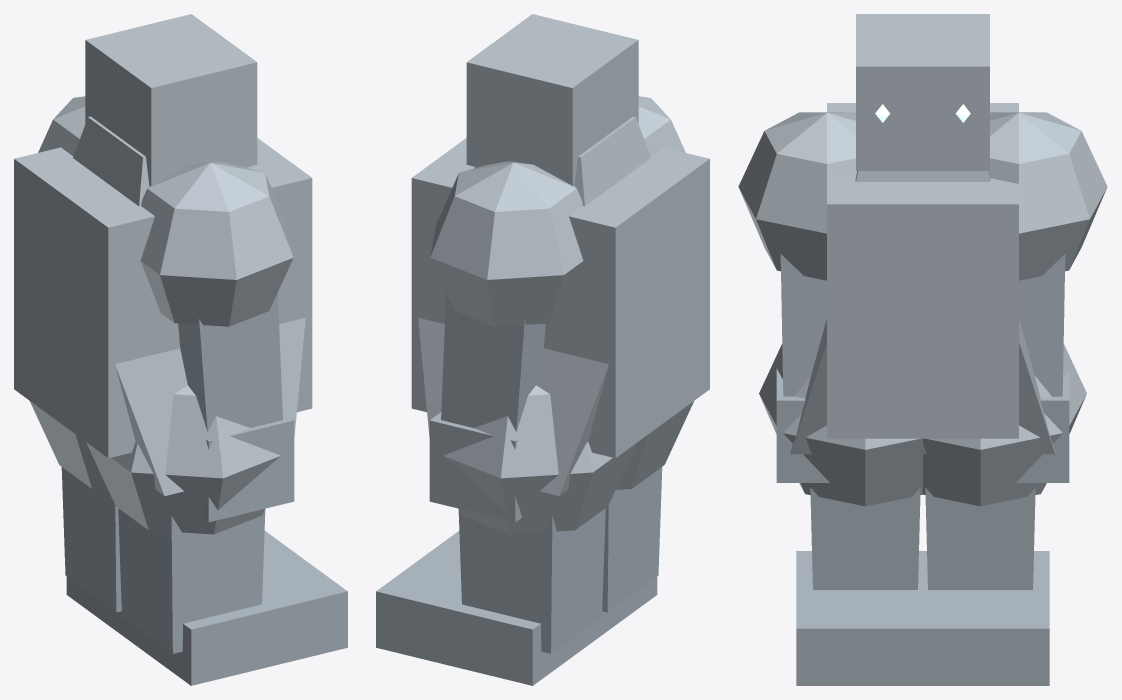
Rendered from golem.glb.
The picture shows the model from 3 angles, left to right: view 1: azimuth 30°, elevation 25°; view 2: azimuth 150°, elevation 25°; view 3: azimuth 270°, elevation 25°; orthographic projection.
Parts seen in each view (by area): view 1: body, legR, head, armR, legL; view 2: body, legL, head, armL, legR; view 3: body, legL, legR, head, armL, armR.
Part boxes in pixels (x1=…): body: x1=14, y1=96, x2=312, y2=534; legR: x1=118, y1=508, x2=347, y2=685; head: x1=85, y1=14, x2=257, y2=185; armR: x1=178, y1=293, x2=294, y2=522; legL: x1=61, y1=467, x2=279, y2=644; body: x1=411, y1=96, x2=709, y2=534; legL: x1=376, y1=508, x2=605, y2=685; head: x1=466, y1=14, x2=638, y2=185; armL: x1=429, y1=293, x2=545, y2=522; legR: x1=444, y1=467, x2=662, y2=644; body: x1=738, y1=103, x2=1107, y2=506; legL: x1=911, y1=487, x2=1049, y2=685; legR: x1=796, y1=487, x2=934, y2=685; head: x1=856, y1=14, x2=989, y2=170; armL: x1=1016, y1=254, x2=1069, y2=482; armR: x1=776, y1=254, x2=829, y2=482.
Size of the model in its own units: 0.55 by 1.36 by 0.7705.
